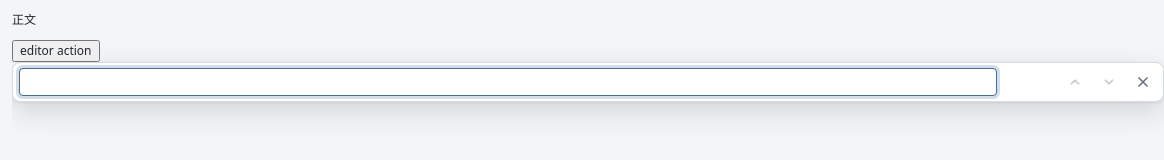
Test case: FindBar › searches only document content and ignores editor controls
The width and height of the screenshot is (1164, 160).
In the search field named "查找文本": (508, 82) 19,68 -> 997,96, type "editor action"
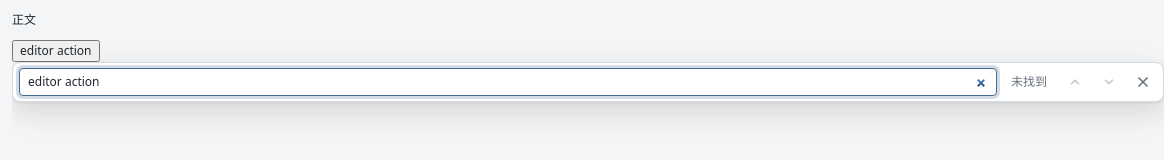
Expected: the text "未找到" is shown, 1011,73 -> 1047,90
